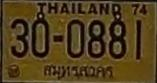0: (31, 17, 49, 57), (66, 19, 84, 57)
1: (136, 20, 140, 58)
3: (10, 18, 28, 57)
8: (108, 19, 125, 58), (87, 19, 104, 57)
SKN: (38, 60, 115, 82)
